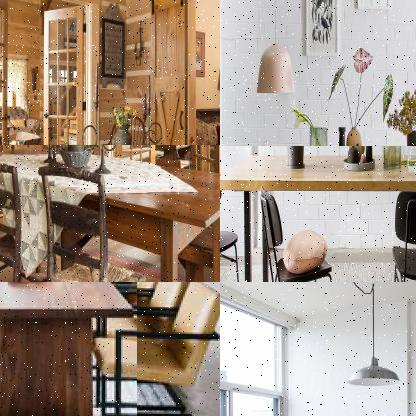table: (0, 145, 219, 281), (220, 146, 415, 281), (0, 282, 138, 415)
